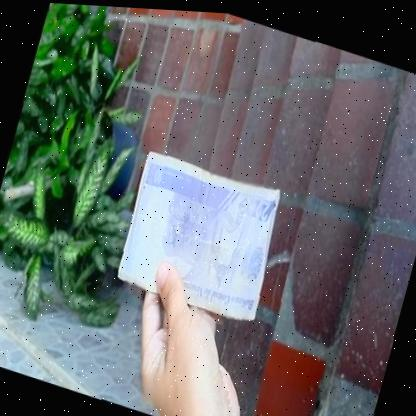ten-back-vef: (115, 145, 289, 322)
